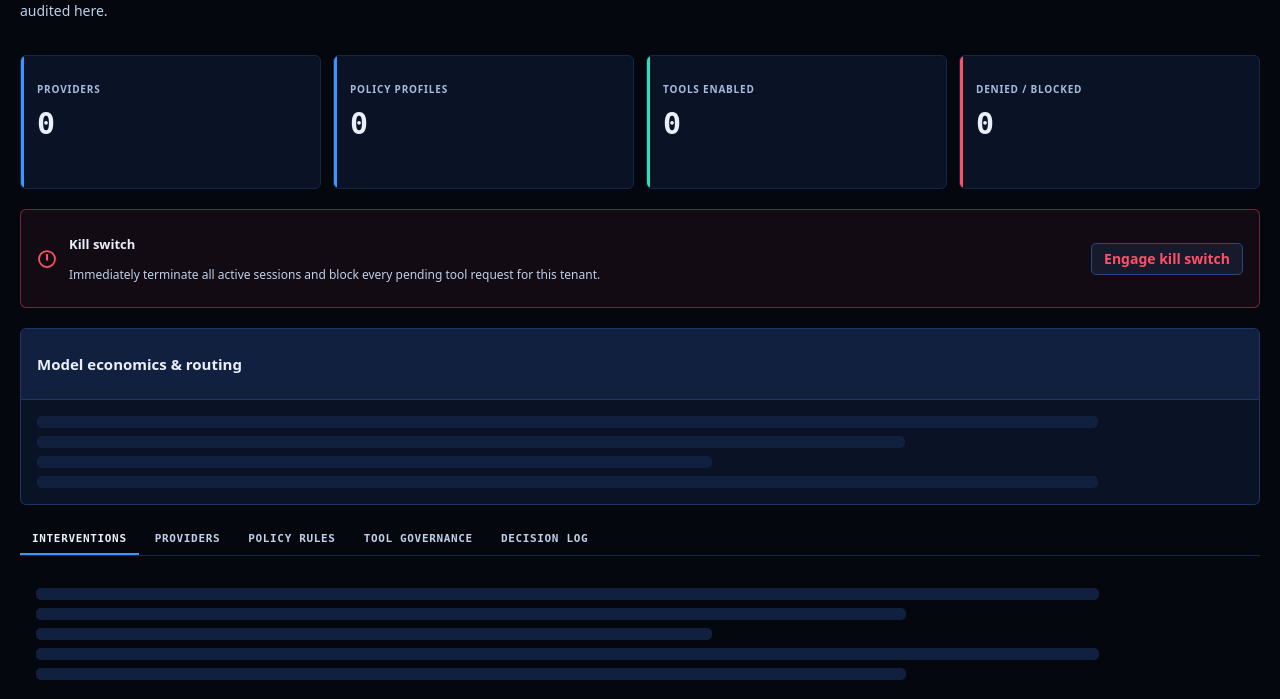
FrontierGatewayConsole › exposes provider editing, disabling, deletion, and key rotation
(page scrolled)
Press the mouse on the tab "Providers" at coordinates (187, 540), box x1=143 y1=524 x2=232 y2=555
(page scrolled)
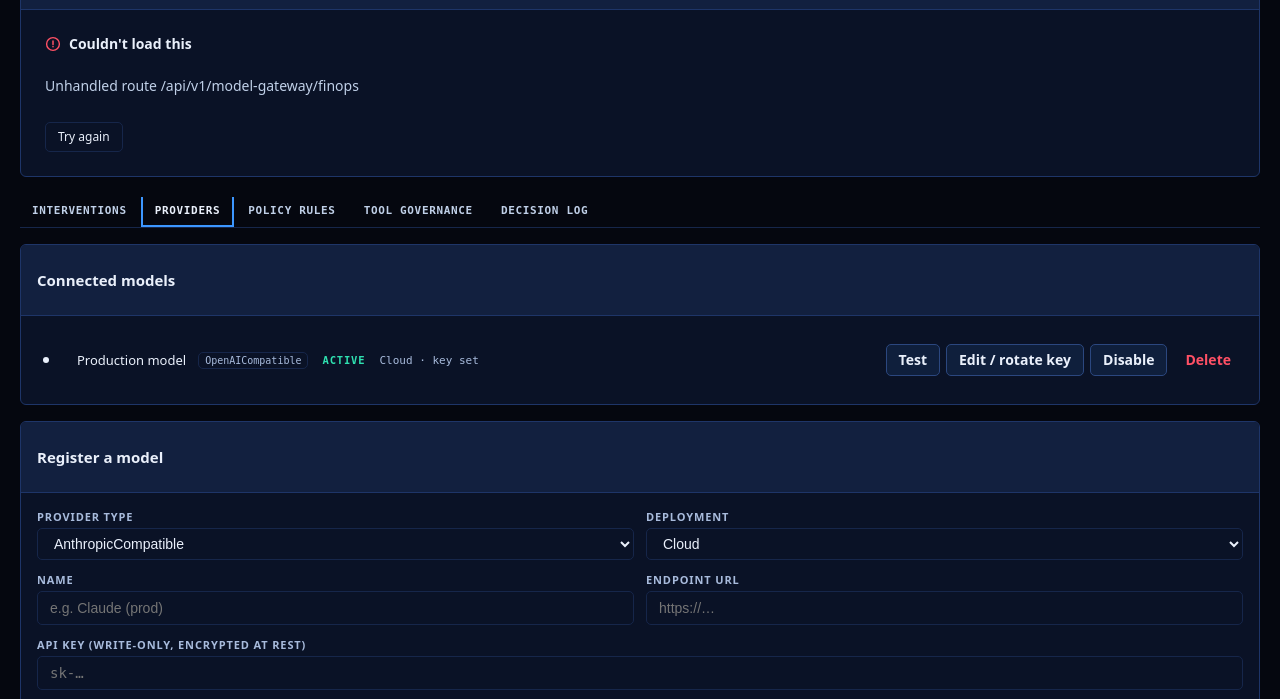
expect the text "Production model" is shown: met, box x1=77 y1=351 x2=186 y2=369
expect the button "Disable" is shown: met, box x1=1090 y1=344 x2=1168 y2=376
expect the button "Delete" is shown: met, box x1=1174 y1=344 x2=1243 y2=376
Click the button "Edit / rotate key" at coordinates (1015, 360), box x1=946 y1=344 x2=1084 y2=376
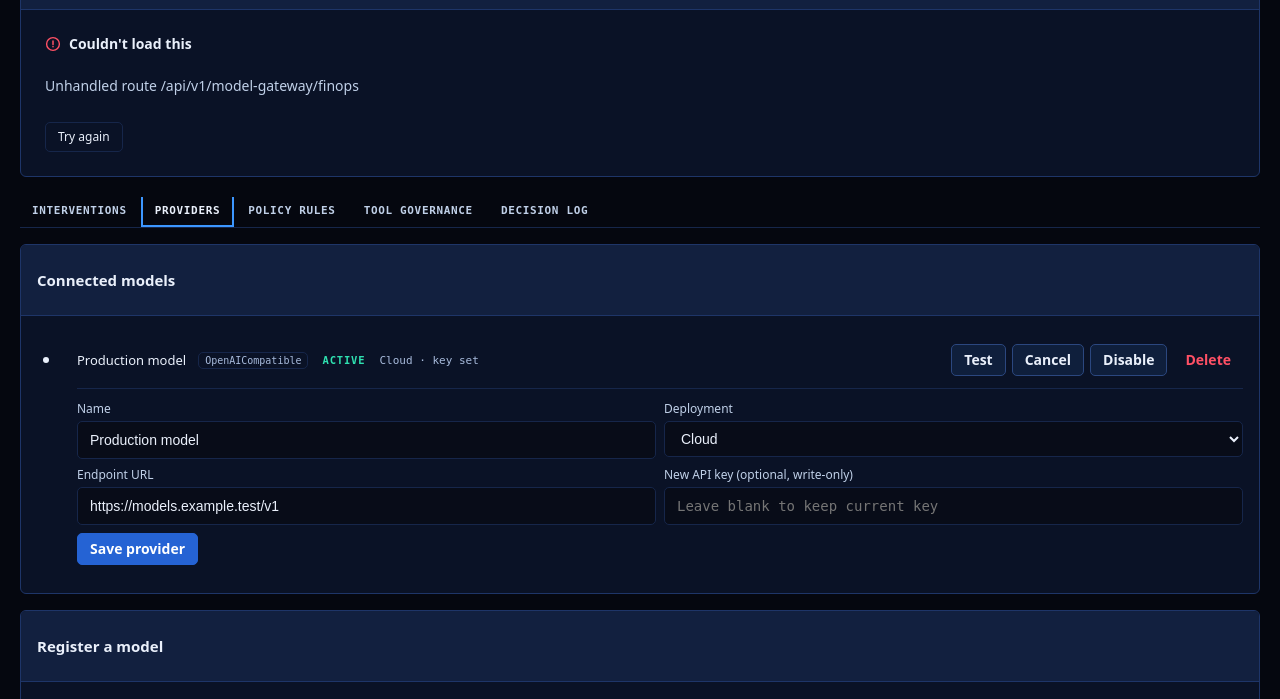
expect the password field labelled "New API key (optional, write-only)" is shown: met, box x1=664 y1=487 x2=1243 y2=525
expect the button "Save provider" is shown: met, box x1=77 y1=533 x2=198 y2=565
